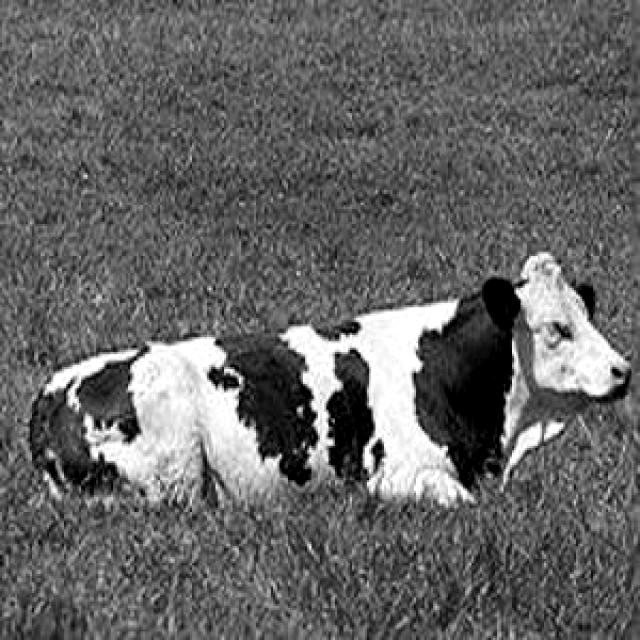COW: (32, 252, 629, 504)
